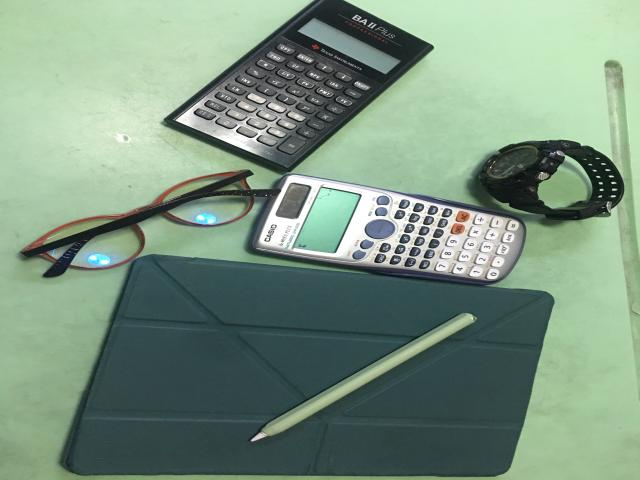Glasses: (21, 171, 283, 280)
Watch: (478, 140, 625, 220)
